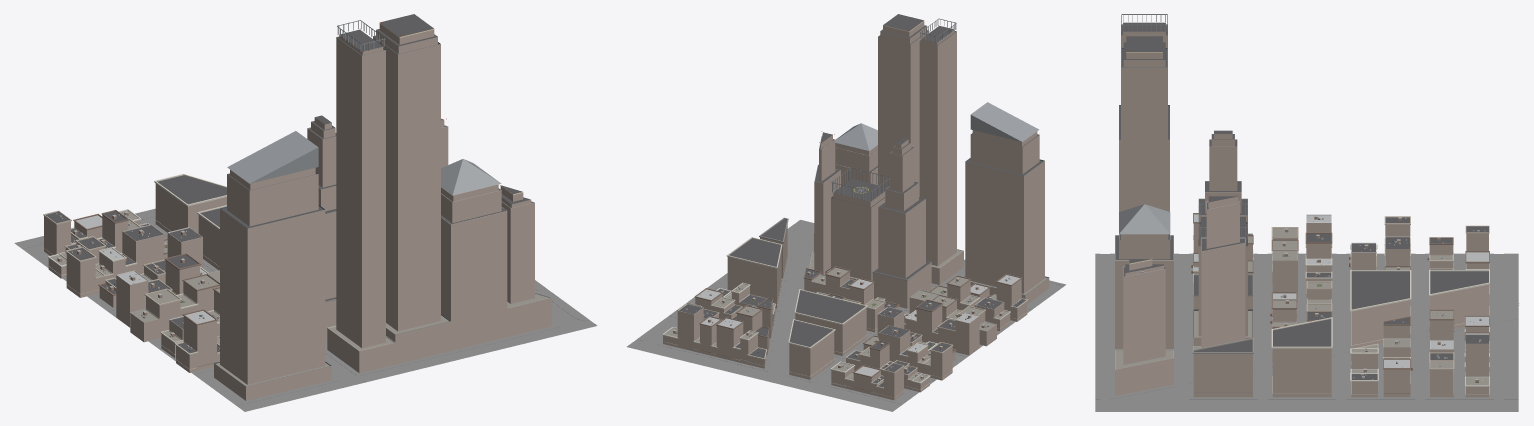
3 views of the same model, side by side, from view 1: azimuth 30°, elevation 25°; view 2: azimuth 150°, elevation 25°; view 3: azimuth 270°, elevation 25° (orthographic). The views are drawn at different scales.
Visible parts, largest first — view 1: t26_facade, t26_roof, t26_ground, t26_detail; view 2: t26_facade, t26_roof, t26_ground, t26_detail; view 3: t26_facade, t26_ground, t26_roof, t26_detail.
Part boxes in pixels (x1,y1,x2,y2): t26_facade: [44, 23, 551, 400]; t26_roof: [46, 14, 548, 386]; t26_ground: [14, 208, 597, 411]; t26_detail: [43, 35, 551, 386]; t26_facade: [663, 21, 1049, 400]; t26_roof: [664, 14, 1047, 387]; t26_ground: [627, 220, 1066, 411]; t26_detail: [662, 30, 1048, 397]; t26_facade: [1115, 31, 1488, 397]; t26_ground: [1095, 253, 1519, 411]; t26_roof: [1115, 14, 1488, 385]; t26_detail: [1115, 24, 1489, 394].
Size of the model in its own units: 388 by 335 by 431.
